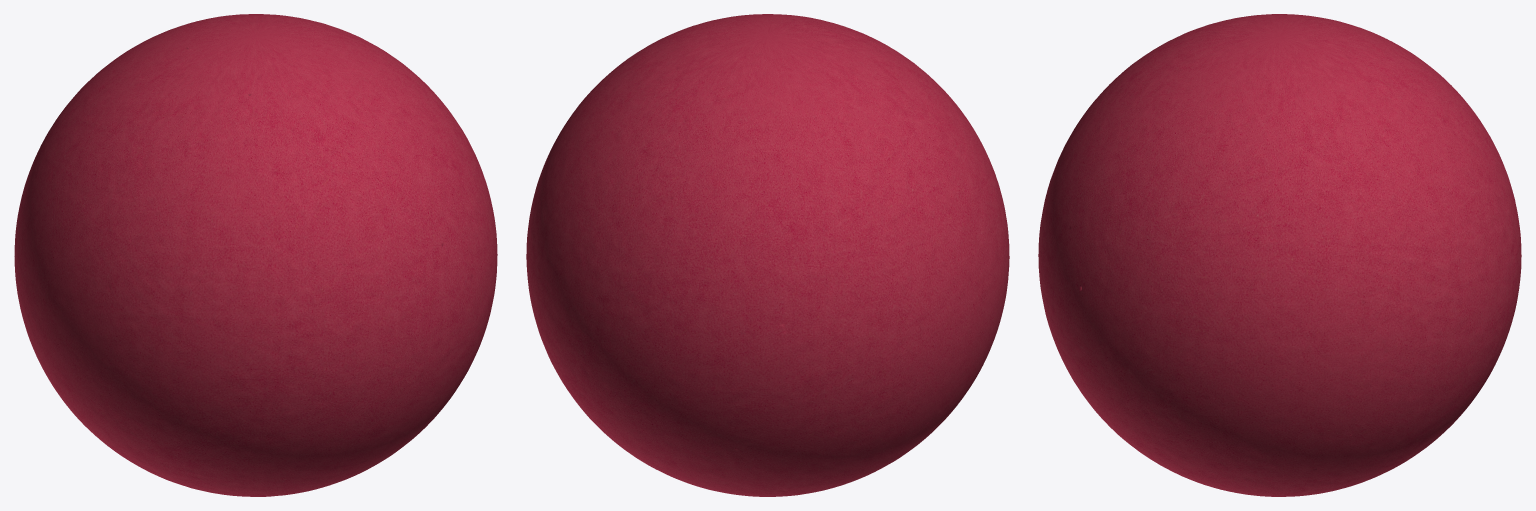
Rendered from velour_velvet_2k.gltf.
The picture shows the model from 3 angles, left to right: view 1: azimuth 30°, elevation 25°; view 2: azimuth 150°, elevation 25°; view 3: azimuth 270°, elevation 25°; orthographic projection.
Parts seen in each view (by area): view 1: sphere_gltf; view 2: sphere_gltf; view 3: sphere_gltf.
Part boxes in pixels (bbox=[...]): sphere_gltf: bbox=[14, 14, 497, 496]; sphere_gltf: bbox=[526, 14, 1009, 496]; sphere_gltf: bbox=[1038, 14, 1521, 496].
Bounding box in the file's own units: 0.2737 × 0.2735 × 0.2735.
1 material, 1 textured.
